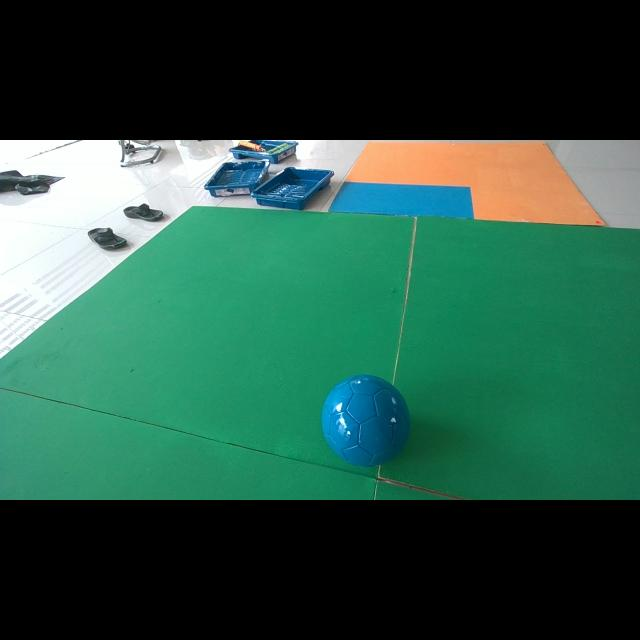B: (321, 374, 411, 467)
